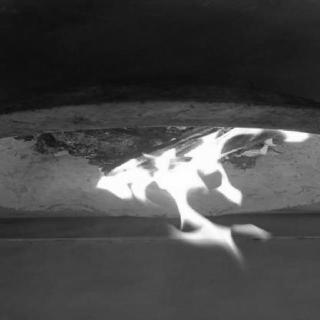Fire: (93, 125, 309, 273)
